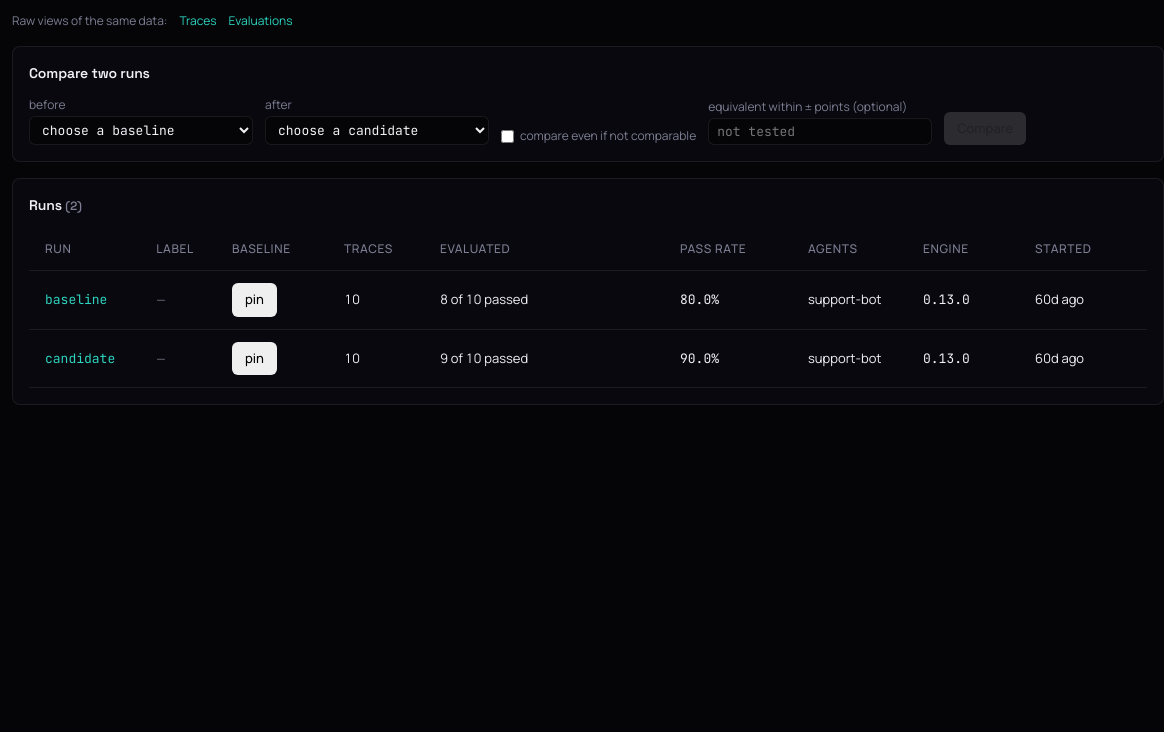
Test: RunsPage › compare: a failed request renders its typed error in place
The width and height of the screenshot is (1164, 732).
Select "baseline" in the dropdown labelled "before" at (141, 130), box 29,116 -> 253,145
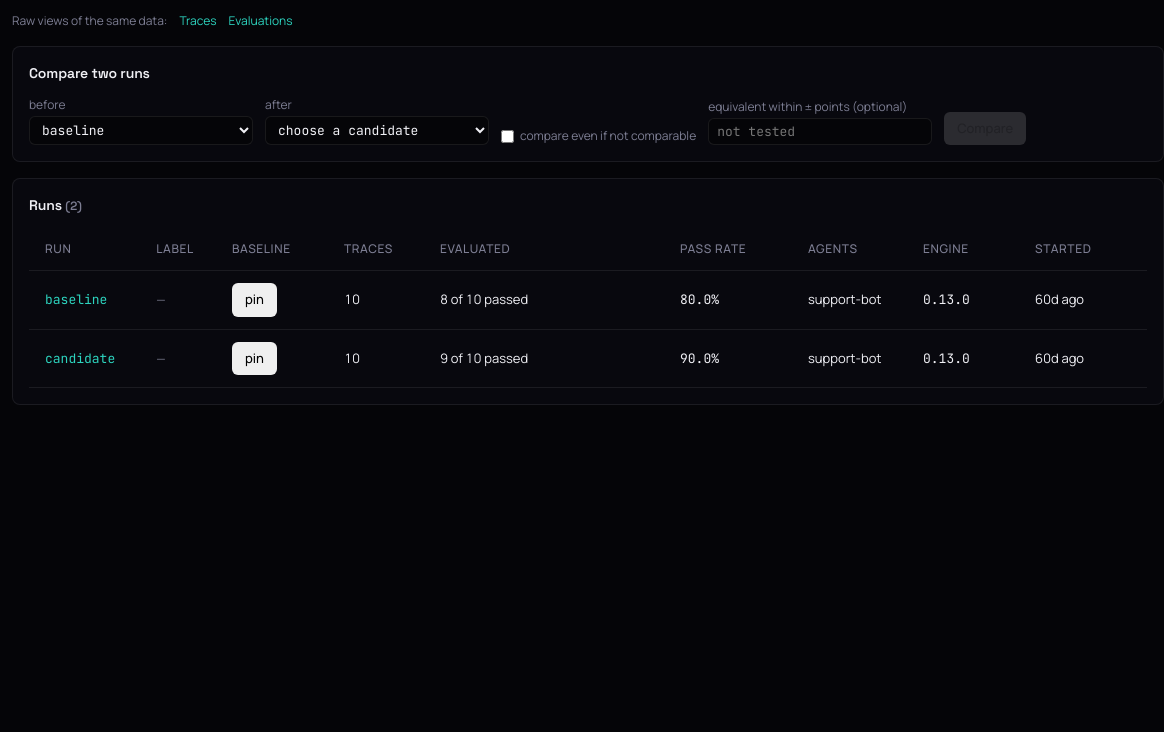
Select "candidate" in the dropdown labelled "after" at (377, 130), box 265,116 -> 489,145
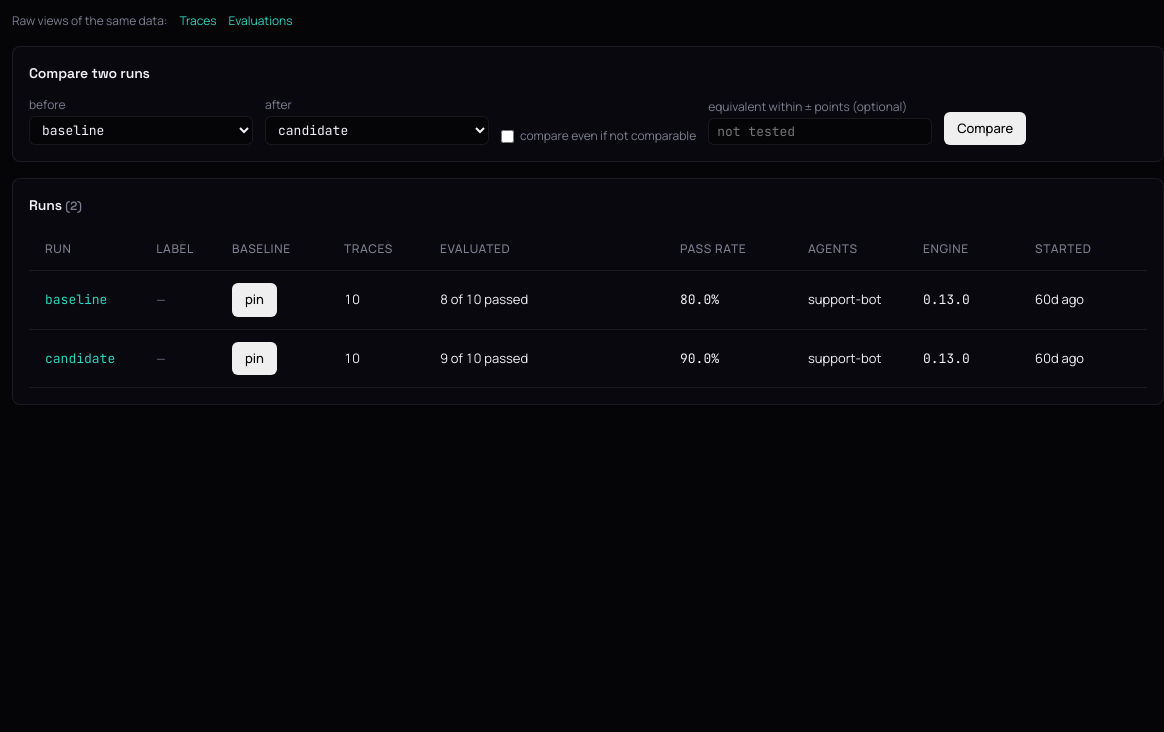
Click the button "Compare" at (985, 128), box 944,112 -> 1026,145
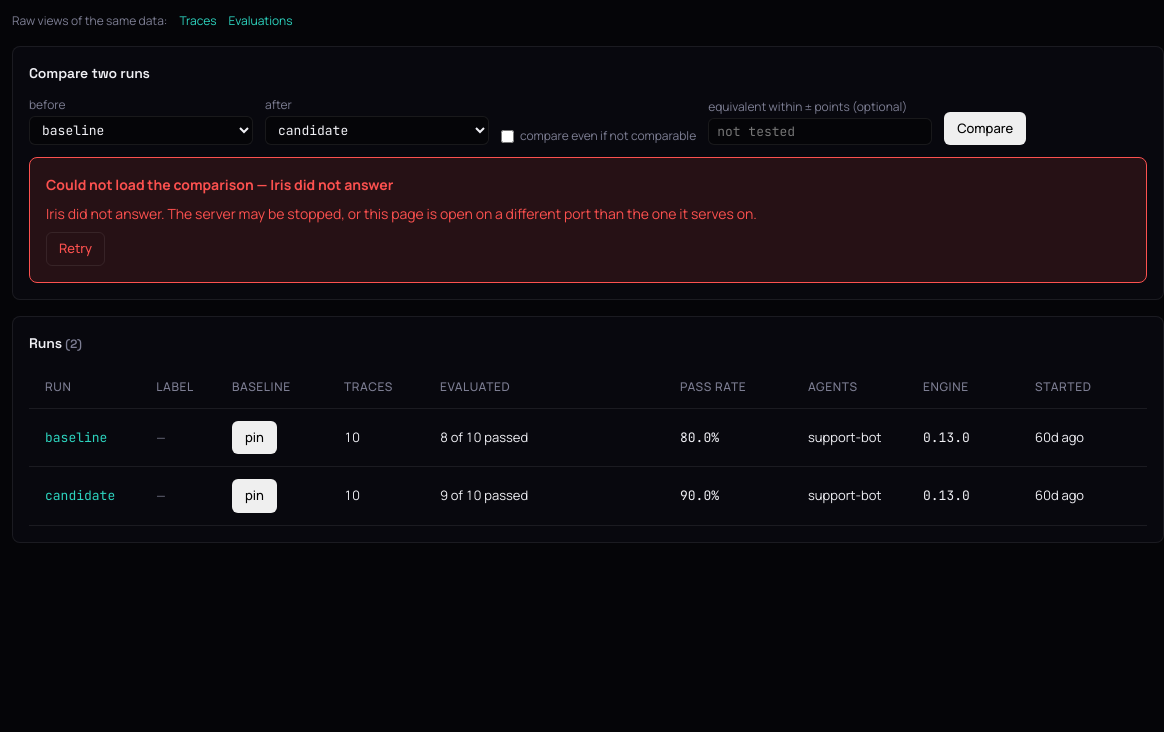
Result: the message is shown at 29,157 -> 1147,282
